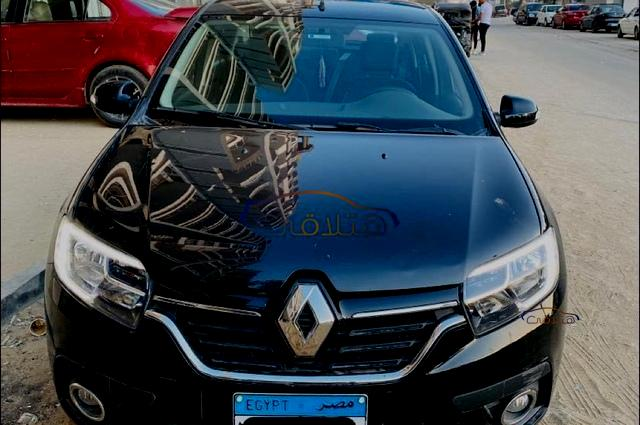Renault: (262, 271, 347, 369)
